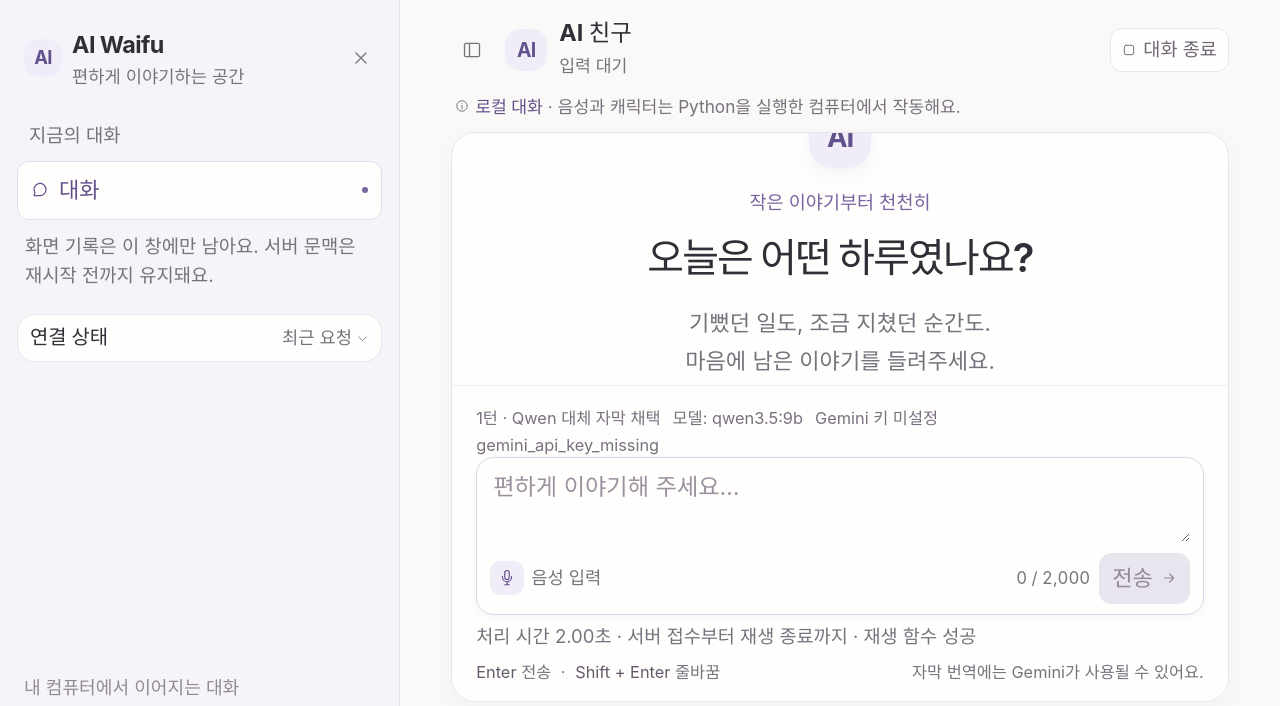
shows adopted provider, fallback reason and nonfatal VTS failure, then marks evidence stale on disconnect
(page scrolled)
Check: the text box is enabled, box [490,470,1190,542]
Click the text "연결 상태" at (69, 338), box [30,322,108,354]
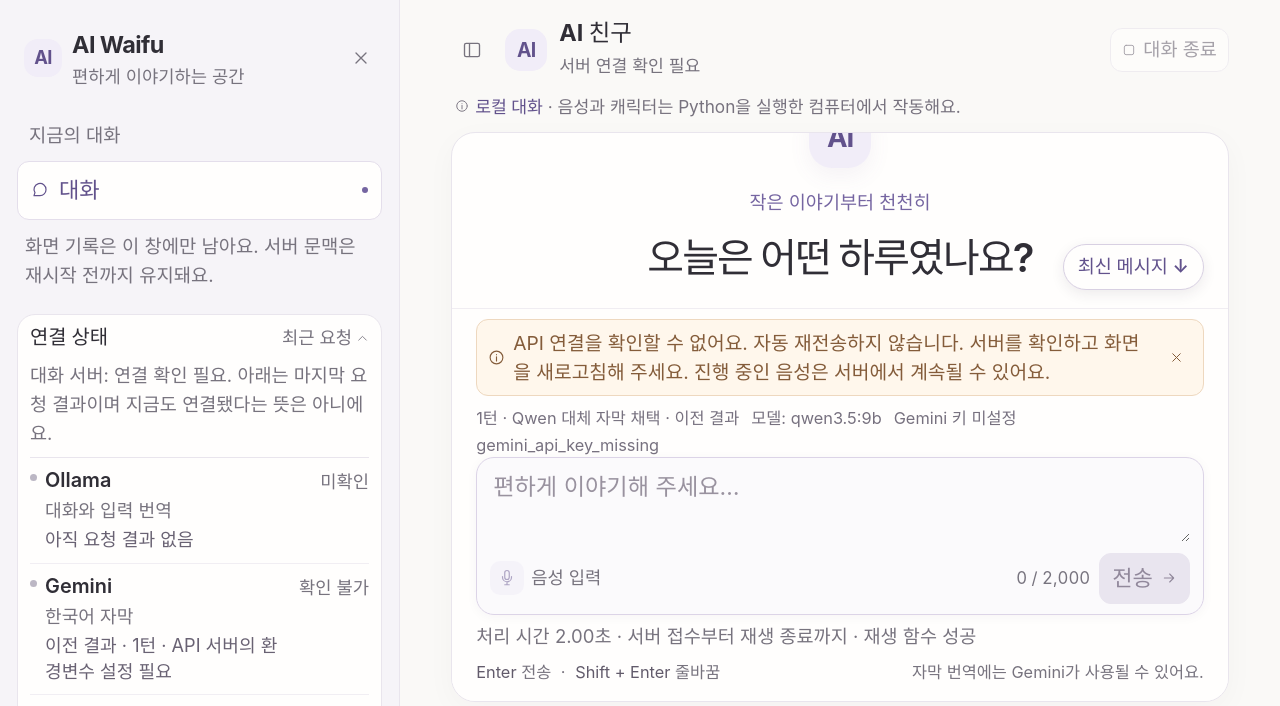
Check: the element named "자막 번역 정보" shows "Qwen 대체 자막 채택", box [512,408,661,428]
Check: the element named "자막 번역 정보" shows "이전 결과", box [661,408,739,428]
